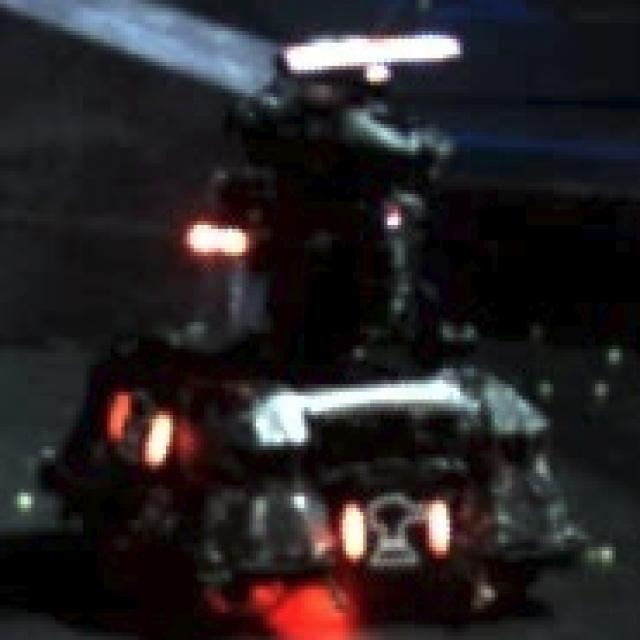Rs: (343, 485, 453, 562), (107, 388, 173, 465)
